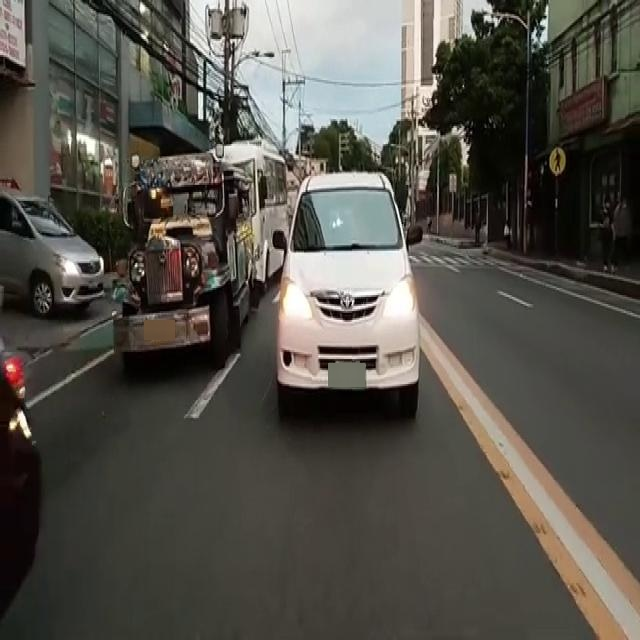car: (270, 179, 432, 415)
jeepney: (111, 163, 261, 366)
